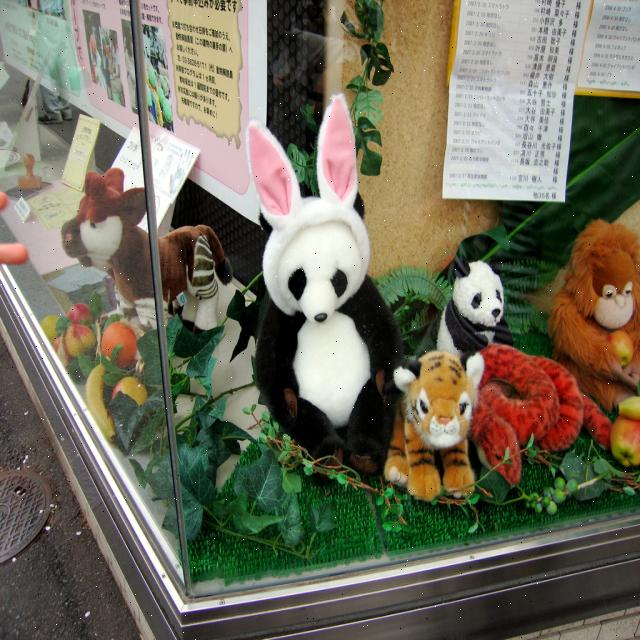panda: (248, 135, 404, 488), (438, 254, 515, 361)
